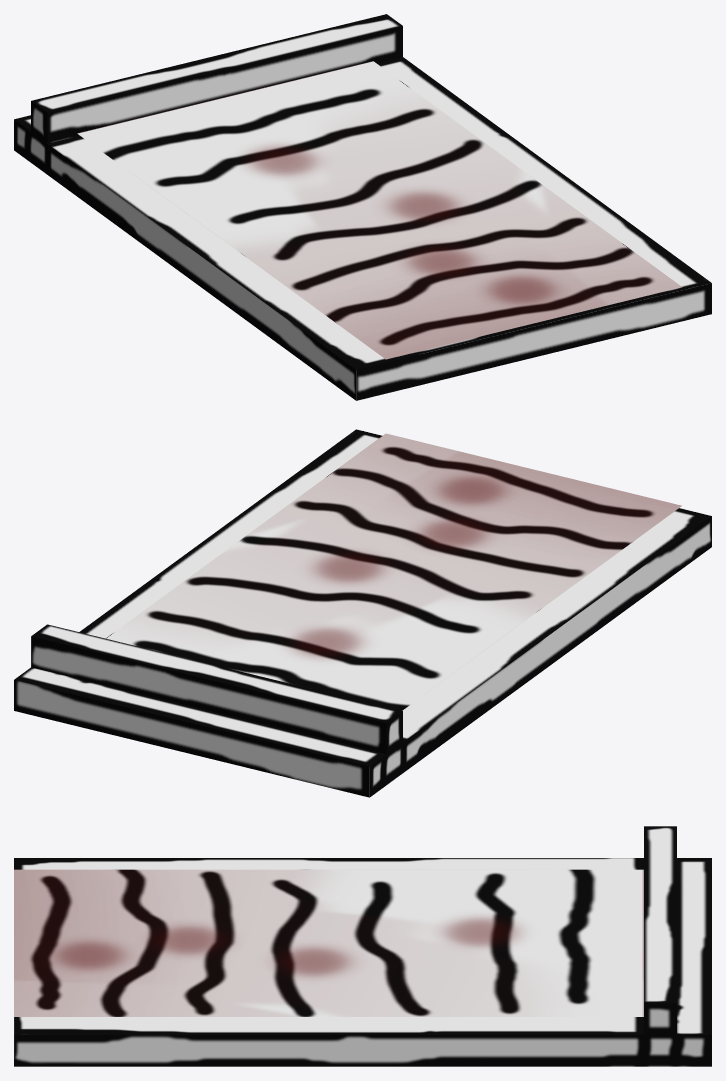
File: CLIPBOARD.fbx
The picture shows the model from 3 angles, top to bottom: view 1: azimuth 30°, elevation 25°; view 2: azimuth 150°, elevation 25°; view 3: azimuth 270°, elevation 25°; orthographic projection.
Parts seen in each view (by area): view 1: Plane, Cube; view 2: Plane, Cube; view 3: Plane, Cube.
Boxes of the visible parts, x1,y1,x2,y2 form: Plane: (77,61,681,359); Cube: (14,14,711,400); Plane: (106,433,681,710); Cube: (14,429,711,797); Plane: (14,869,643,1016); Cube: (14,826,711,1066).
Bounding box in the file's own units: 120 × 20 × 200.
